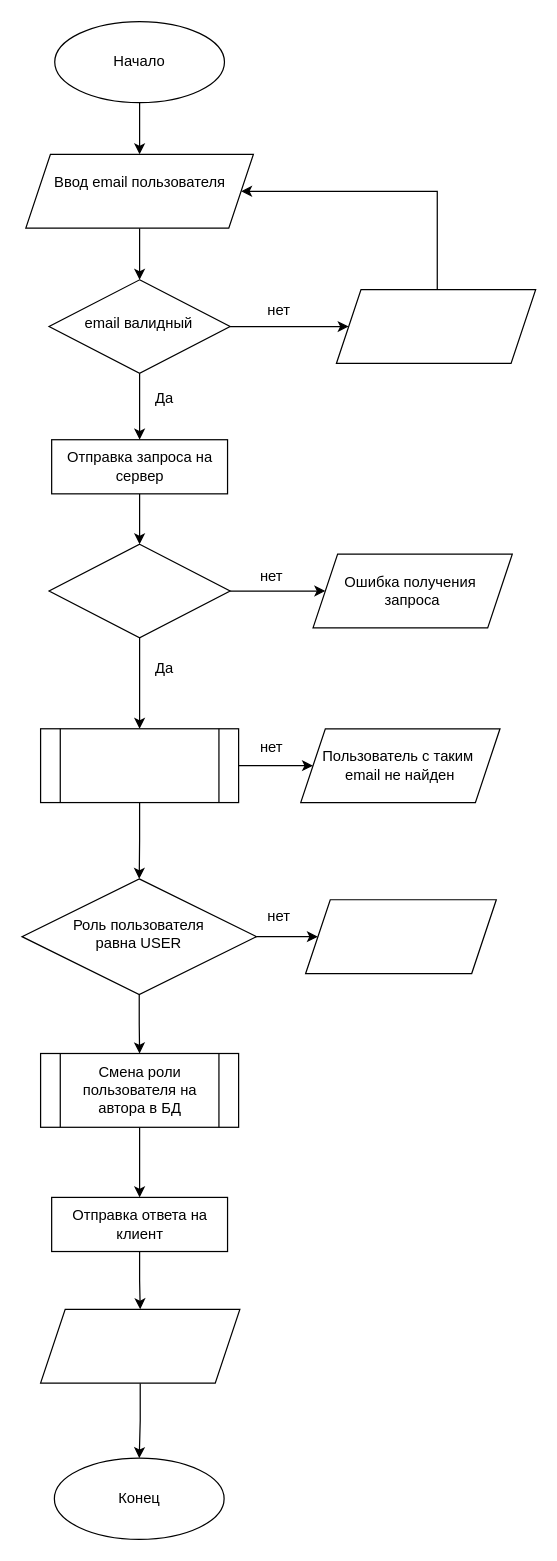
Image size: 557x1561. Some labels were removed from this diagram. The shapes that lost their labels are listed below. From the top down, each one's centre as x and y in pixels, then its label:
At pixel 435 325: "Некорректный email".
At pixel 139 590: "Запрос получен сервером".
At pixel 139 765: "Поиск пользователя по email в БД".
At pixel 400 936: "Пользователя нельзя назначить автором".
At pixel 139 1345: "Пользователь назначен автором".
